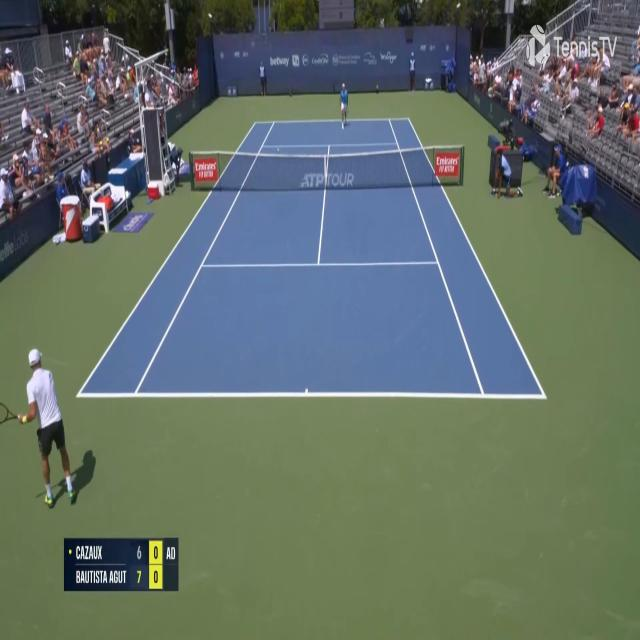tennis-player: (1, 342, 74, 511), (337, 81, 349, 130)
